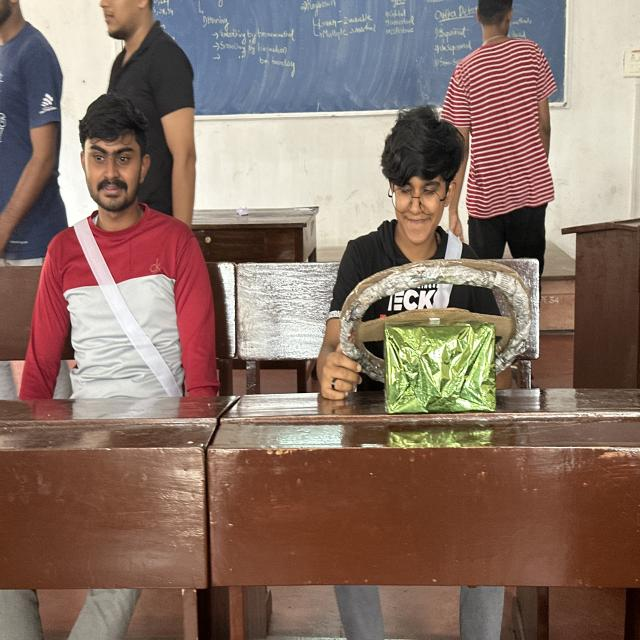seatbelt: (62, 216, 198, 402), (341, 229, 498, 389)
